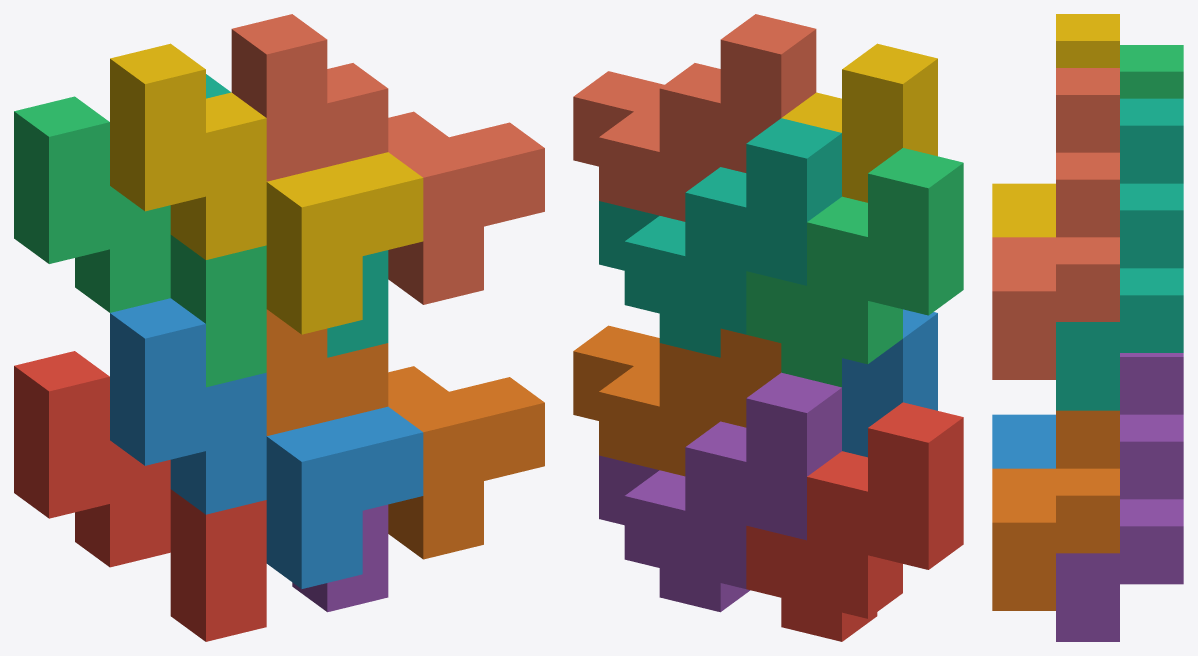
Rendered from tiling.obj.
3 views of the same model, side by side, from view 1: azimuth 30°, elevation 25°; view 2: azimuth 150°, elevation 25°; view 3: azimuth 270°, elevation 25° (orthographic). The views are drawn at different scales.
Parts seen in each view (by area): view 1: copy_1_domain_4, copy_1_domain_2, copy_1_domain_8, copy_1_domain_1, copy_1_domain_3, copy_1_domain_6, copy_1_domain_5, copy_1_domain_7; view 2: copy_1_domain_1, copy_1_domain_5, copy_1_domain_3, copy_1_domain_7, copy_1_domain_8, copy_1_domain_6, copy_1_domain_4, copy_1_domain_2; view 3: copy_1_domain_8, copy_1_domain_7, copy_1_domain_5, copy_1_domain_6, copy_1_domain_4, copy_1_domain_2, copy_1_domain_3.
Boxes of the visible parts, x1,y1,x2,y2 form: copy_1_domain_4: [110, 43, 423, 334]; copy_1_domain_2: [110, 298, 423, 588]; copy_1_domain_8: [231, 14, 544, 304]; copy_1_domain_1: [14, 351, 266, 641]; copy_1_domain_3: [14, 96, 266, 387]; copy_1_domain_6: [266, 309, 544, 559]; copy_1_domain_5: [292, 504, 388, 612]; copy_1_domain_7: [206, 74, 388, 357]; copy_1_domain_1: [746, 402, 963, 641]; copy_1_domain_5: [599, 372, 841, 612]; copy_1_domain_3: [746, 148, 963, 387]; copy_1_domain_7: [599, 118, 841, 357]; copy_1_domain_8: [573, 14, 816, 221]; copy_1_domain_6: [573, 325, 781, 476]; copy_1_domain_4: [781, 43, 937, 202]; copy_1_domain_2: [842, 309, 937, 457]; copy_1_domain_8: [992, 68, 1119, 379]; copy_1_domain_7: [1056, 98, 1183, 410]; copy_1_domain_5: [1056, 353, 1183, 641]; copy_1_domain_6: [992, 410, 1119, 610]; copy_1_domain_4: [992, 14, 1119, 237]; copy_1_domain_2: [992, 414, 1055, 468]; copy_1_domain_3: [1120, 45, 1183, 98].
Bounding box in the file's own units: 7 × 9 × 3.
